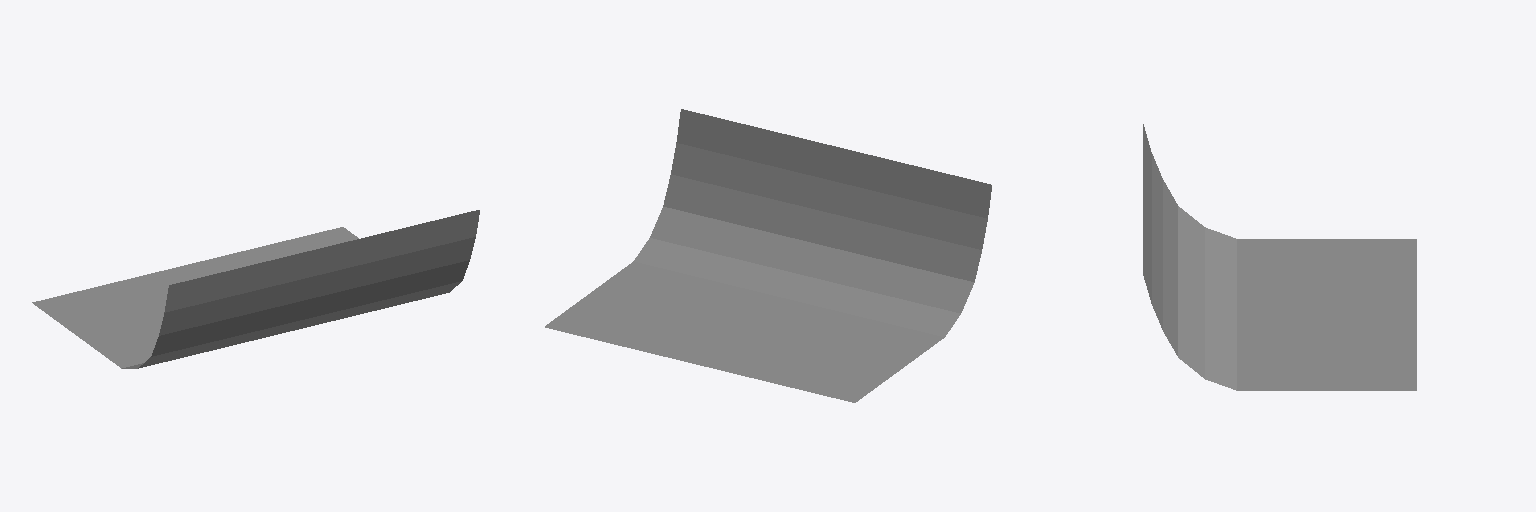
The model's file is background.obj.
3 views of the same model, side by side, from view 1: azimuth 30°, elevation 25°; view 2: azimuth 150°, elevation 25°; view 3: azimuth 270°, elevation 25° (orthographic).
Visible parts, largest first — view 1: background; view 2: background; view 3: background.
Part boxes in pixels (x1,y1,x2,y2): background: (32,210,479,368); background: (545,109,991,402); background: (1143,124,1416,390).
Size of the model in its own units: 18.75 by 6.78 by 14.32.